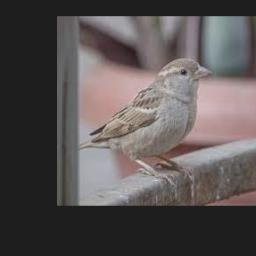Sparrow: (78, 58, 213, 185)
